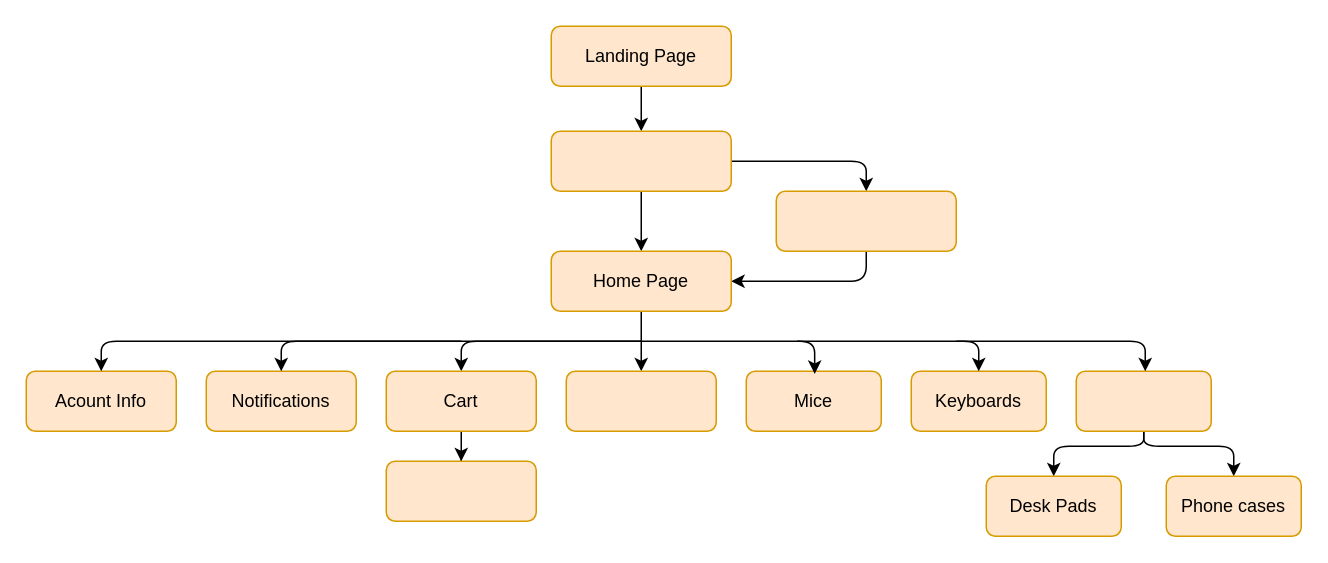
The diagram is 1328 pixels wide and 563 high, and some of its shapes have lost their labels. The centre of each missing label's shape, as x and y in pixels:
"Acessories" goes at point (1143, 400).
"All products" goes at point (640, 400).
"Checkout" goes at point (460, 490).
"Login" goes at point (640, 160).
"Sign up" goes at point (865, 220).
